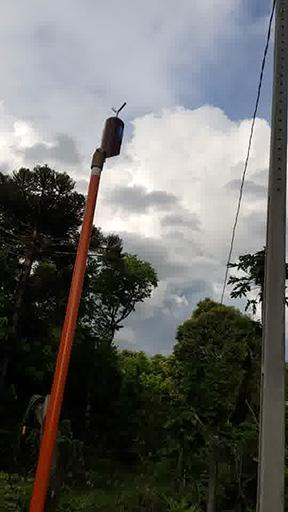Detector_Tensao_Contato: (98, 102, 126, 158)
Vara_Manobra: (28, 155, 102, 512)
